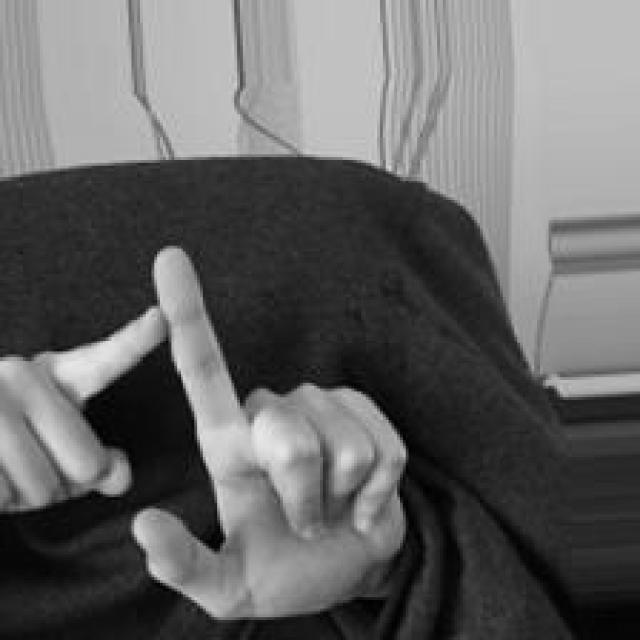J: (0, 243, 409, 621)
